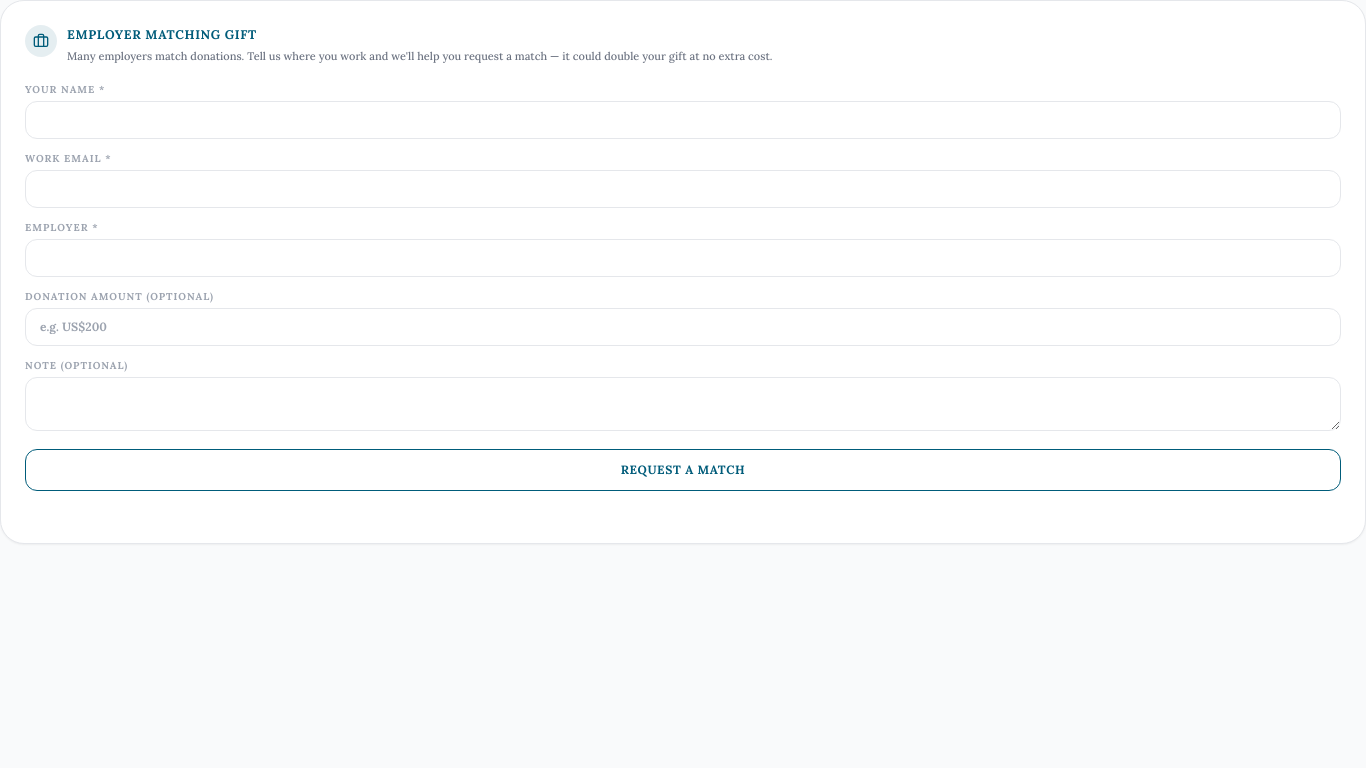
Test: MatchingGiftForm › surfaces the server error when the API fails
Type "Jane Doe" into the field labelled "Your name *". click: (683, 120)
box: x1=25 y1=101 x2=1341 y2=139
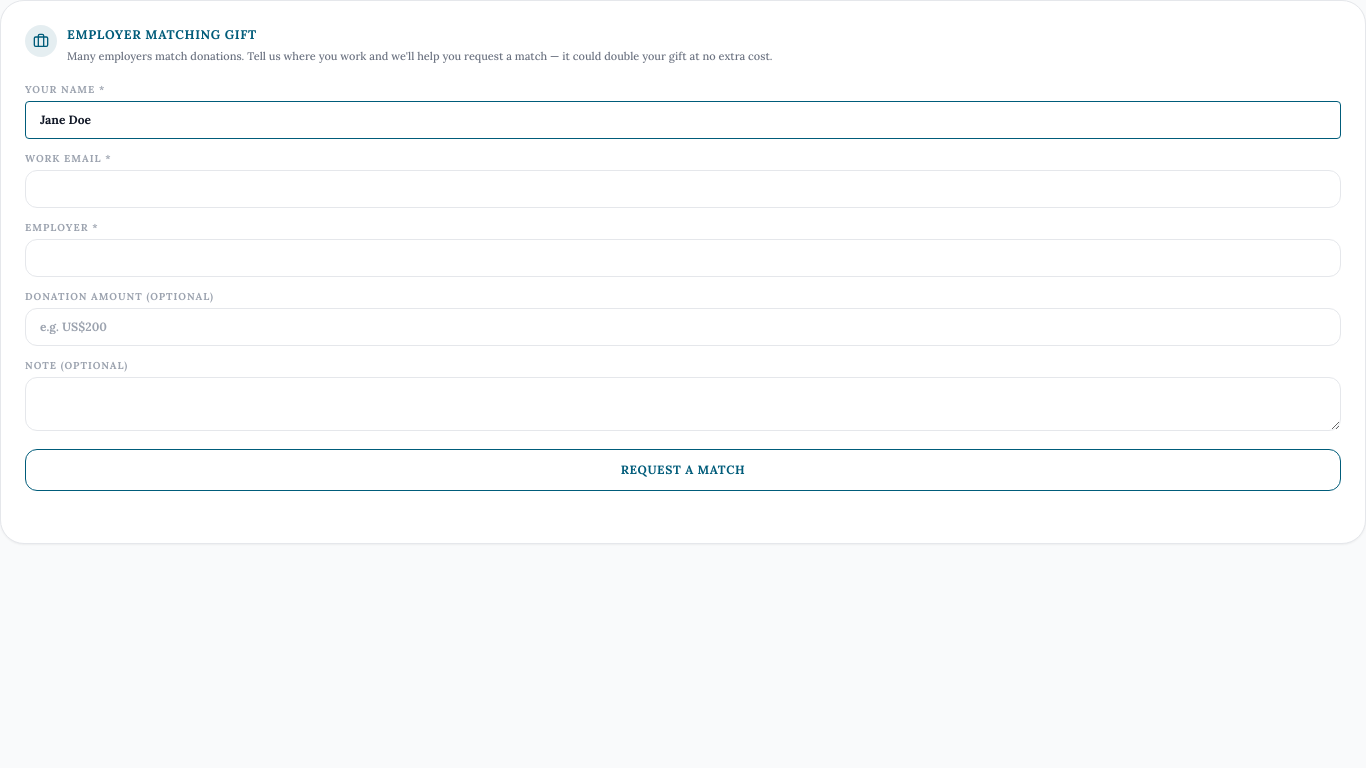
Type "jane@example.com" into the field labelled "Work email *". click: (683, 189)
box: x1=25 y1=170 x2=1341 y2=208
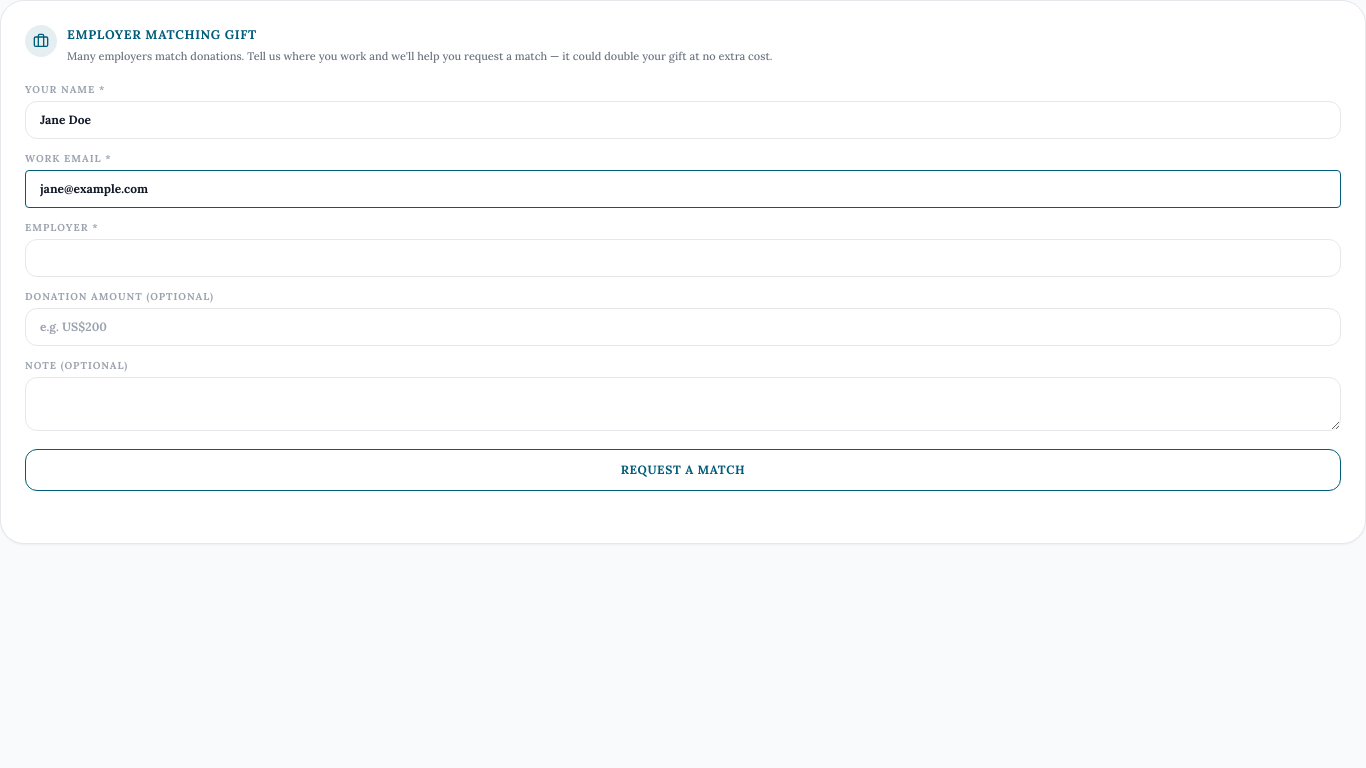
Type "Acme Corp" into the field labelled "Employer *". click: (683, 258)
box: x1=25 y1=239 x2=1341 y2=277
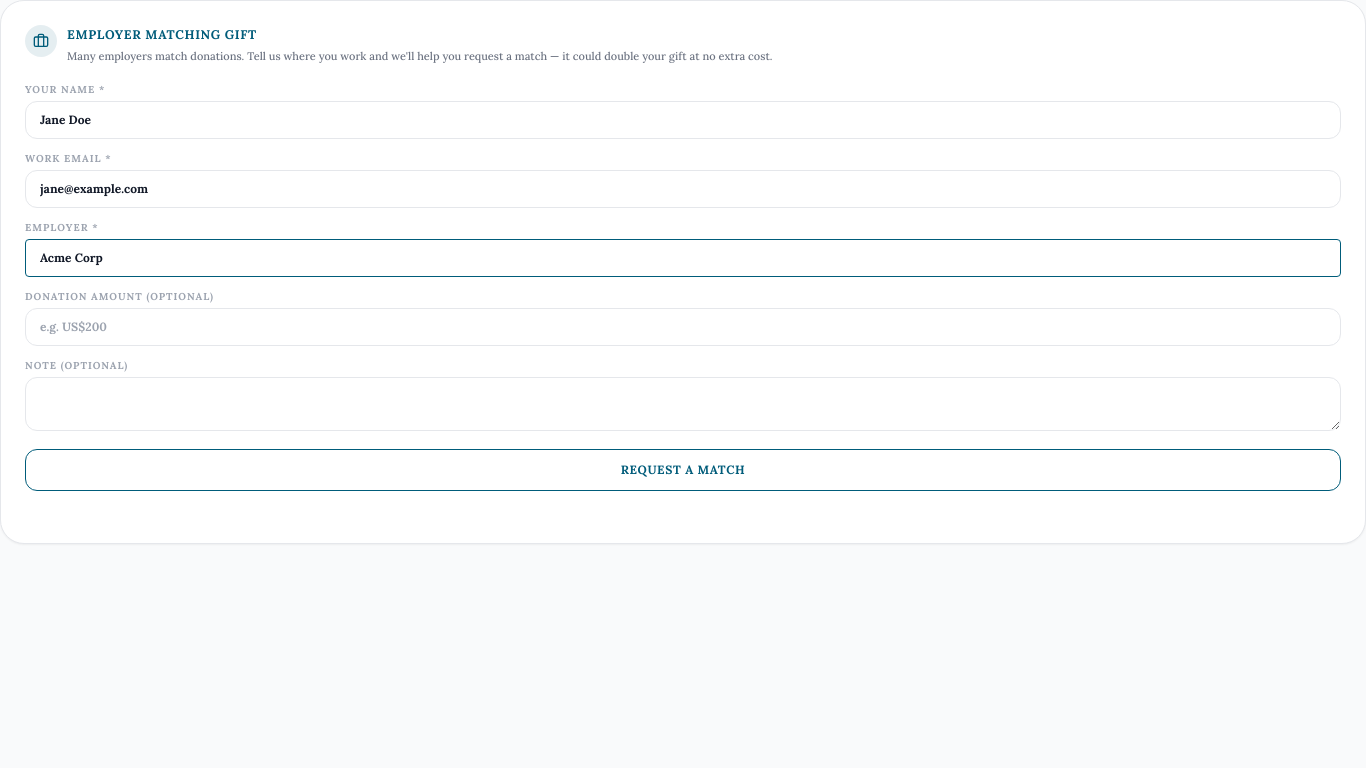
Click the button "Request a Match". click: (683, 470)
box: x1=25 y1=449 x2=1341 y2=491
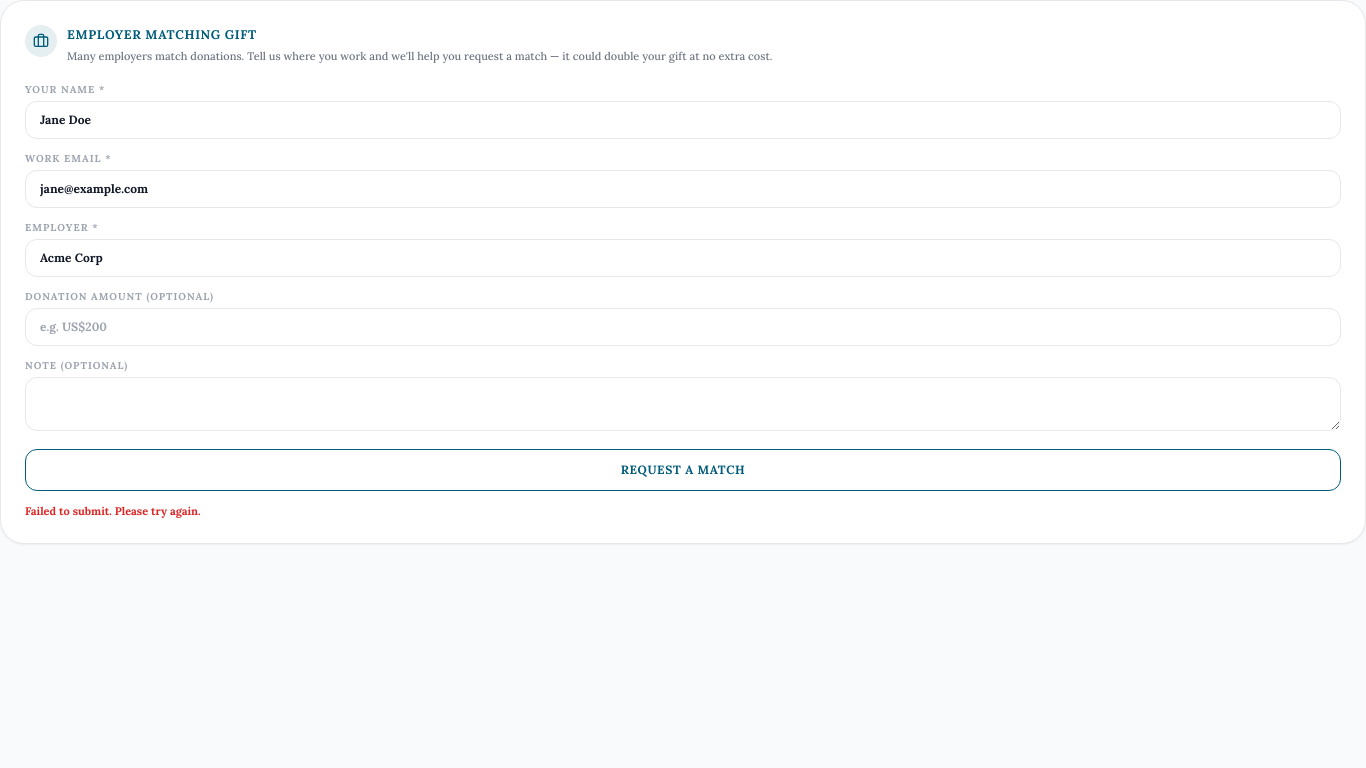
Now the text "Failed to submit. Please try again." is shown, box x1=25 y1=504 x2=201 y2=518
